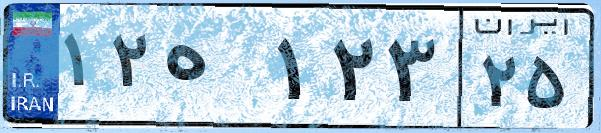1: (270, 28, 330, 110), (57, 26, 110, 100)
2: (330, 28, 385, 110), (475, 38, 525, 113), (110, 28, 158, 98)
3: (385, 28, 445, 110)
5: (525, 38, 570, 115)
ه: (158, 20, 270, 120)
